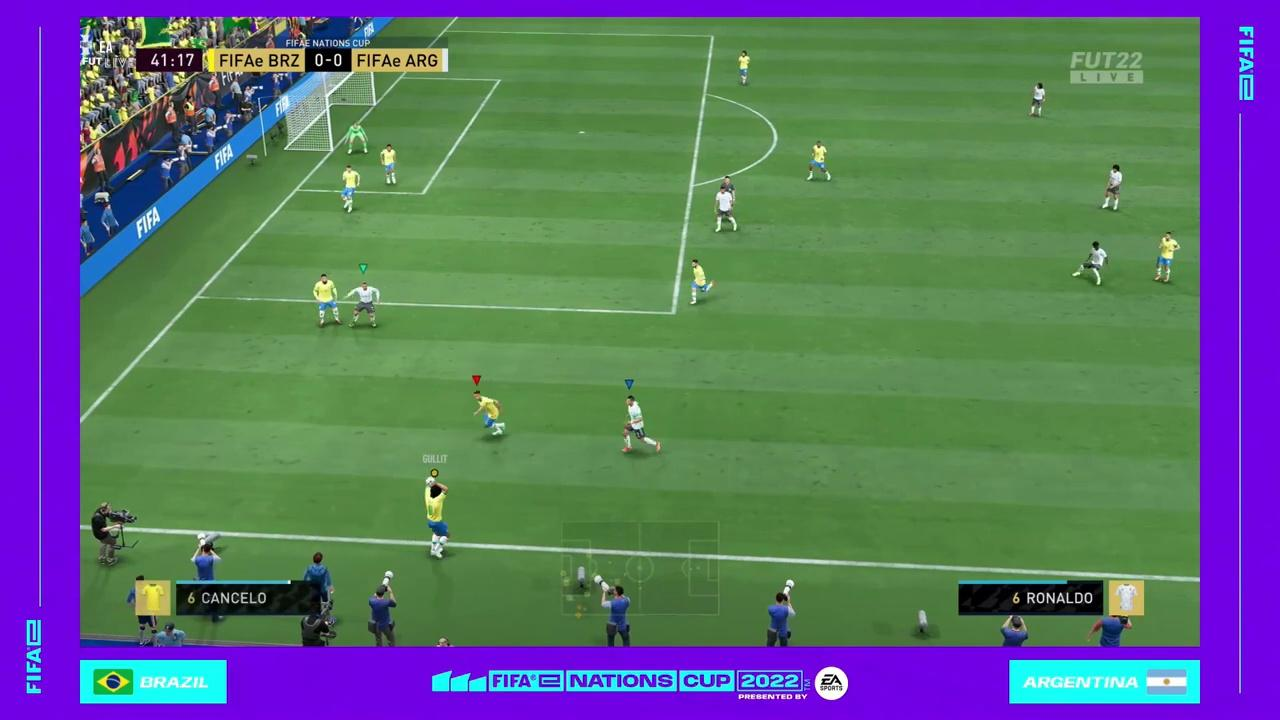scoreboard: (207, 48, 449, 71)
timestamp: (137, 50, 203, 70)
